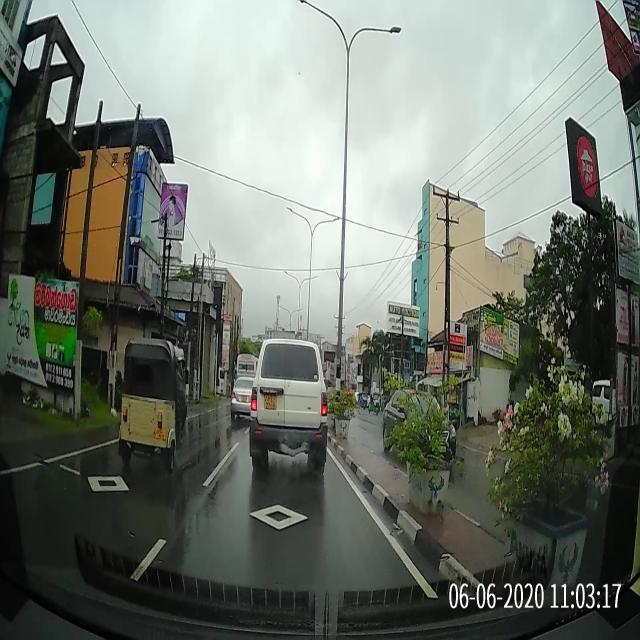diamond: (165, 498, 402, 550)
